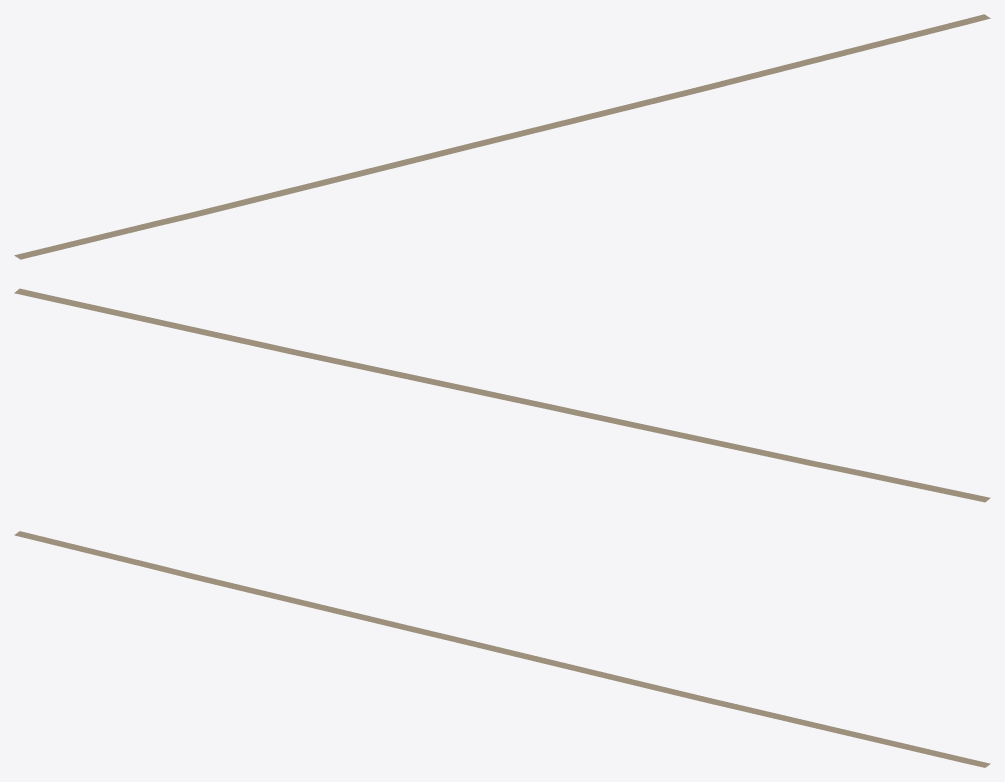
File: farm_19_18_track.glb
3 views of the same model, one above another, from view 1: azimuth 30°, elevation 25°; view 2: azimuth 150°, elevation 25°; view 3: azimuth 330°, elevation 25° (orthographic). The views are drawn at different scales.
Parts seen in each view (by area): view 1: geometry_0; view 2: geometry_0; view 3: geometry_0.
Part boxes in pixels (left/top/right/bottom): geometry_0: left=14, top=14, right=990, bottom=259; geometry_0: left=14, top=288, right=990, bottom=502; geometry_0: left=14, top=531, right=990, bottom=767.
Size of the model in its own units: 299 by 3.56 by 12.15.
